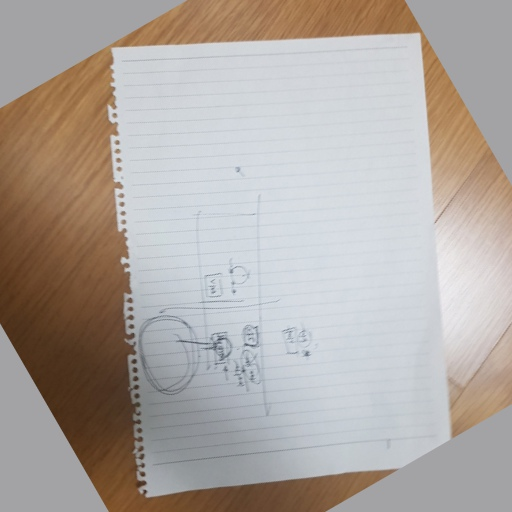Paper_2: (102, 32, 461, 501)
